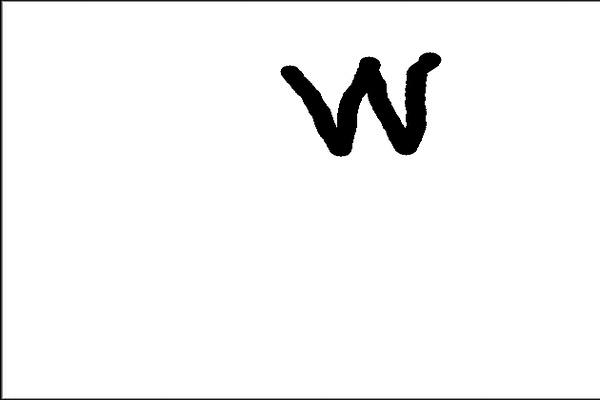w: (265, 40, 487, 183)
